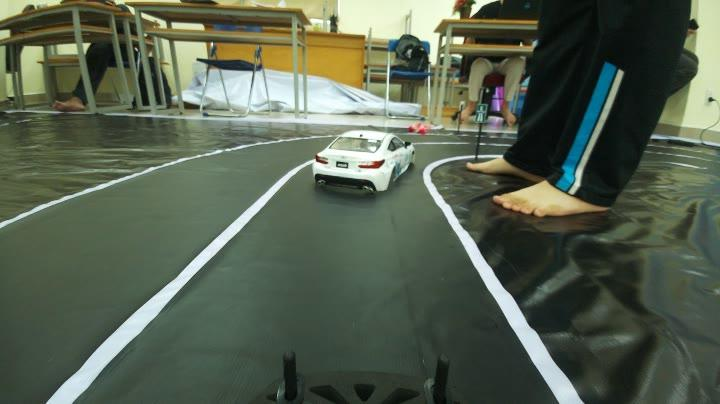car: (307, 126, 414, 204)
